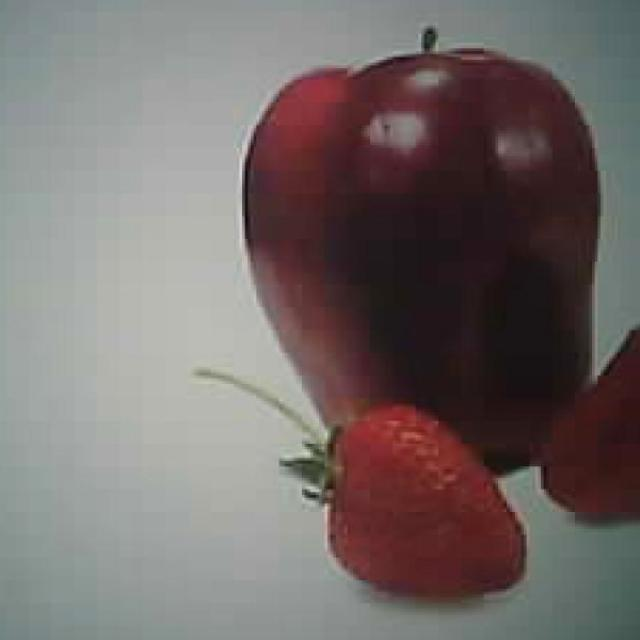Healthy Fruit: (240, 25, 602, 472), (321, 401, 527, 599)
